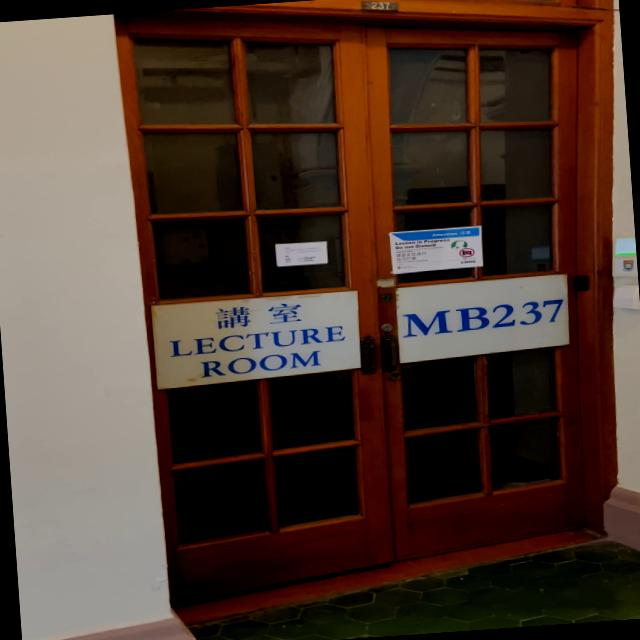room237: (357, 0, 400, 18)
room237Window: (399, 292, 566, 341)
